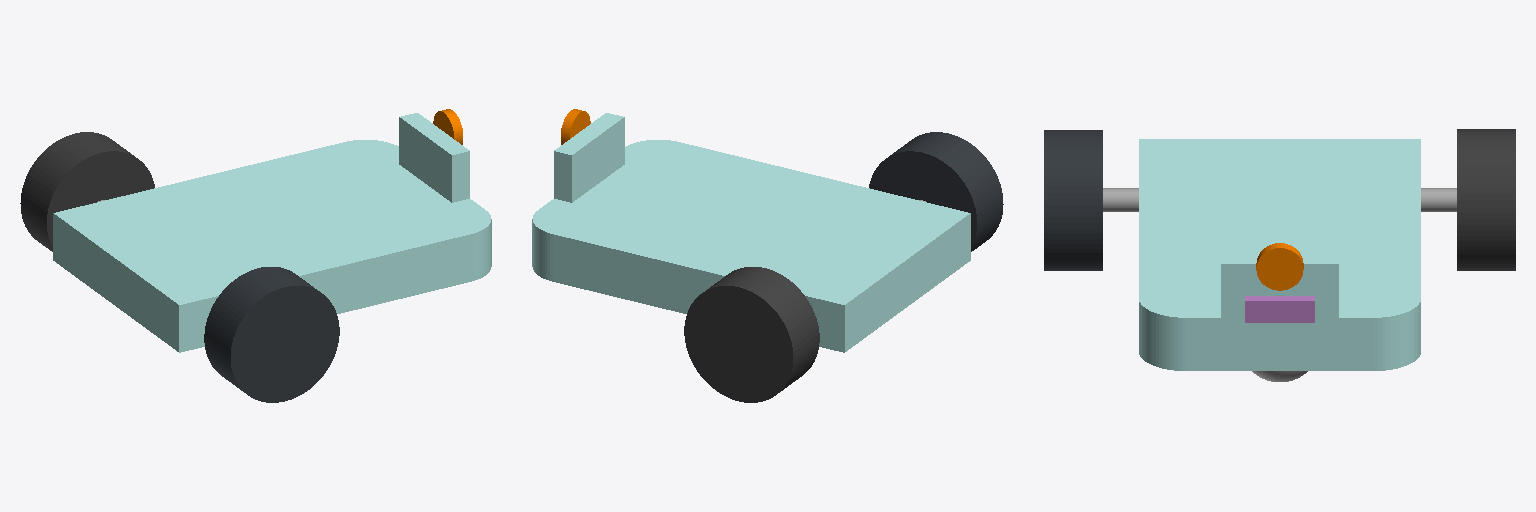
The robot description file, URDF, robot "warden":
<?xml version="1.0" ?>
<!-- Generated using onshape-to-robot -->
<!-- Onshape document_id: a95faf3a4f281cc41b4edebe / workspace_id: 843dbb8636a14d7052eaf3cc -->
<robot name="warden">
  <!-- Link base_link -->
  <link name="base_link">
    <inertial>
      <origin xyz="0.111758 0.0613685 0.00349625" rpy="0 0 0"/>
      <mass value="0.576715"/>
      <inertia ixx="0.000708516" ixy="0" ixz="-2.75267e-05" iyy="0.00163298" iyz="0" izz="0.00226536"/>
    </inertial>
    <!-- Part base_link -->
    <visual>
      <origin xyz="0.0204942 0.00174666 -0.0270738" rpy="0 -0 0"/>
      <geometry>
        <mesh filename="package://warden_description/models/meshes/base_link.stl"/>
      </geometry>
      <material name="base_link_material">
        <color rgba="0.737255 0.937255 0.917647 1"/>
      </material>
    </visual>
    <collision>
      <origin xyz="0.0204942 0.00174666 -0.0270738" rpy="0 -0 0"/>
      <geometry>
        <mesh filename="package://warden_description/models/meshes/base_link.stl"/>
      </geometry>
    </collision>
  </link>
  <!-- Link right_wheel_link -->
  <link name="right_wheel_link">
    <inertial>
      <origin xyz="0 0 -0.0075" rpy="0 0 0"/>
      <mass value="0.00123936"/>
      <inertia ixx="3.0984e-08" ixy="0" ixz="0" iyy="3.0984e-08" iyz="0" izz="1.5492e-08"/>
    </inertial>
    <!-- Part right_wheel_link -->
    <visual>
      <origin xyz="-0.0349958 0.03 0.000378129" rpy="1.5708 -0 0"/>
      <geometry>
        <mesh filename="package://warden_description/models/meshes/right_wheel_link.stl"/>
      </geometry>
      <material name="right_wheel_link_material">
        <color rgba="0.701961 0.701961 0.701961 1"/>
      </material>
    </visual>
    <collision>
      <origin xyz="-0.0349958 0.03 0.000378129" rpy="1.5708 -0 0"/>
      <geometry>
        <mesh filename="package://warden_description/models/meshes/right_wheel_link.stl"/>
      </geometry>
    </collision>
  </link>
  <!-- Joint from base_link to right_wheel_link -->
  <joint name="right_joint" type="fixed">
    <origin xyz="0.05549 0.00136853 0.00292621" rpy="-1.5708 -0 0"/>
    <parent link="base_link"/>
    <child link="right_wheel_link"/>
    <axis xyz="0 0 1"/>
    <limit effort="10" velocity="10"/>
  </joint>
  <!-- Link left_wheel_link -->
  <link name="left_wheel_link">
    <inertial>
      <origin xyz="-0 0 -0.0075" rpy="0 0 0"/>
      <mass value="0.00123936"/>
      <inertia ixx="3.0984e-08" ixy="0" ixz="0" iyy="3.0984e-08" iyz="0" izz="1.5492e-08"/>
    </inertial>
    <!-- Part left_wheel_link -->
    <visual>
      <origin xyz="-0.0349958 -0.03 0.119622" rpy="-1.5708 -0 0"/>
      <geometry>
        <mesh filename="package://warden_description/models/meshes/left_wheel_link.stl"/>
      </geometry>
      <material name="left_wheel_link_material">
        <color rgba="0.701961 0.701961 0.701961 1"/>
      </material>
    </visual>
    <collision>
      <origin xyz="-0.0349958 -0.03 0.119622" rpy="-1.5708 -0 0"/>
      <geometry>
        <mesh filename="package://warden_description/models/meshes/left_wheel_link.stl"/>
      </geometry>
    </collision>
  </link>
  <!-- Joint from base_link to left_wheel_link -->
  <joint name="left_joint" type="fixed">
    <origin xyz="0.05549 0.121369 0.00292621" rpy="1.5708 -0 0"/>
    <parent link="base_link"/>
    <child link="left_wheel_link"/>
    <axis xyz="0 0 1"/>
    <limit effort="10" velocity="10"/>
  </joint>
  <!-- Link caster -->
  <link name="caster">
    <inertial>
      <origin xyz="0 0 -0.0065625" rpy="0 0 0"/>
      <mass value="0.0881135"/>
      <inertia ixx="6.99917e-06" ixy="0" ixz="-0" iyy="6.99917e-06" iyz="0" izz="1.07939e-05"/>
    </inertial>
    <!-- Part caster -->
    <visual>
      <origin xyz="-0.149996 -0.0571219 -0.0175" rpy="0 -0 0"/>
      <geometry>
        <mesh filename="package://warden_description/models/meshes/caster.stl"/>
      </geometry>
      <material name="caster_material">
        <color rgba="0.701961 0.701961 0.701961 1"/>
      </material>
    </visual>
    <collision>
      <origin xyz="-0.149996 -0.0571219 -0.0175" rpy="0 -0 0"/>
      <geometry>
        <mesh filename="package://warden_description/models/meshes/caster.stl"/>
      </geometry>
    </collision>
  </link>
  <!-- Joint from base_link to caster -->
  <joint name="caster_joint" type="fixed">
    <origin xyz="0.17049 0.0613685 -0.00957379" rpy="0 -0 0"/>
    <parent link="base_link"/>
    <child link="caster"/>
    <axis xyz="0 0 1"/>
    <limit effort="10" velocity="10"/>
  </joint>
  <!-- Link right -->
  <link name="right">
    <inertial>
      <origin xyz="0 -0 -0.0275" rpy="0 0 0"/>
      <mass value="0.0743615"/>
      <inertia ixx="2.06043e-05" ixy="0" ixz="0" iyy="2.06043e-05" iyz="0" izz="3.34627e-05"/>
    </inertial>
    <!-- Part right -->
    <visual>
      <origin xyz="0.0455868 0.052388 -0.015" rpy="1.5708 -0 -1.32919"/>
      <geometry>
        <mesh filename="package://warden_description/models/meshes/right.stl"/>
      </geometry>
      <material name="right_material">
        <color rgba="0.262745 0.282353 0.301961 1"/>
      </material>
    </visual>
    <collision>
      <origin xyz="0.0455868 0.052388 -0.015" rpy="1.5708 -0 -1.32919"/>
      <geometry>
        <mesh filename="package://warden_description/models/meshes/right.stl"/>
      </geometry>
    </collision>
  </link>
  <!-- Joint from base_link to right -->
  <joint name="right_wheel_joint" type="continuous">
    <origin xyz="0.05549 0.00136853 0.00292621" rpy="-1.5708 -0 0"/>
    <parent link="base_link"/>
    <child link="right"/>
    <axis xyz="0 0 1"/>
    <limit effort="10" velocity="10"/>
  </joint>
  <!-- Link left -->
  <link name="left">
    <inertial>
      <origin xyz="-0 -0 0.0275" rpy="0 0 0"/>
      <mass value="0.0743615"/>
      <inertia ixx="2.06043e-05" ixy="-0" ixz="-0" iyy="2.06043e-05" iyz="0" izz="3.34627e-05"/>
    </inertial>
    <!-- Part left -->
    <visual>
      <origin xyz="0.0645654 0.0175969 0.04" rpy="1.5708 -0 -1.91675"/>
      <geometry>
        <mesh filename="package://warden_description/models/meshes/left.stl"/>
      </geometry>
      <material name="left_material">
        <color rgba="0.301961 0.301961 0.301961 1"/>
      </material>
    </visual>
    <collision>
      <origin xyz="0.0645654 0.0175969 0.04" rpy="1.5708 -0 -1.91675"/>
      <geometry>
        <mesh filename="package://warden_description/models/meshes/left.stl"/>
      </geometry>
    </collision>
  </link>
  <!-- Joint from base_link to left -->
  <joint name="left_wheel_joint" type="continuous">
    <origin xyz="0.05549 0.121369 0.00292621" rpy="1.5708 -0 -3.14159"/>
    <parent link="base_link"/>
    <child link="left"/>
    <axis xyz="0 0 1"/>
    <limit effort="10" velocity="10"/>
  </joint>
  <!-- Link tof_sensor -->
  <link name="tof_sensor">
    <inertial>
      <origin xyz="0.025 -0.005 -0.0025" rpy="0 0 0"/>
      <mass value="0.001578"/>
      <inertia ixx="1.6438e-08" ixy="0" ixz="0" iyy="1.21638e-07" iyz="-0" izz="1.315e-07"/>
    </inertial>
    <!-- Part tof_sensor -->
    <visual>
      <origin xyz="-0.0346219 0.0425 0.179996" rpy="1.5708 1.5708 0"/>
      <geometry>
        <mesh filename="package://warden_description/models/meshes/tof_sensor.stl"/>
      </geometry>
      <material name="tof_sensor_material">
        <color rgba="0.764706 0.545098 0.803922 1"/>
      </material>
    </visual>
    <collision>
      <origin xyz="-0.0346219 0.0425 0.179996" rpy="1.5708 1.5708 0"/>
      <geometry>
        <mesh filename="package://warden_description/models/meshes/tof_sensor.stl"/>
      </geometry>
    </collision>
  </link>
  <!-- Joint from base_link to tof_sensor -->
  <joint name="TOF_joint" type="fixed">
    <origin xyz="0.20049 0.0363685 0.0154262" rpy="-1.5708 -0 1.5708"/>
    <parent link="base_link"/>
    <child link="tof_sensor"/>
    <axis xyz="0 0 1"/>
    <limit effort="10" velocity="10"/>
  </joint>
  <!-- Link camera -->
  <link name="camera">
    <inertial>
      <origin xyz="0.0025 0 0" rpy="0 0 0"/>
      <mass value="0.00163363"/>
      <inertia ixx="8.1681e-08" ixy="0" ixz="-0" iyy="4.4244e-08" iyz="0" izz="4.4244e-08"/>
    </inertial>
    <!-- Part camera -->
    <visual>
      <origin xyz="0.184996 -0.0675 -0.0596219" rpy="1.5708 -0 3.14159"/>
      <geometry>
        <mesh filename="package://warden_description/models/meshes/camera.stl"/>
      </geometry>
      <material name="camera_material">
        <color rgba="0.972549 0.529412 0.00392157 1"/>
      </material>
    </visual>
    <collision>
      <origin xyz="0.184996 -0.0675 -0.0596219" rpy="1.5708 -0 3.14159"/>
      <geometry>
        <mesh filename="package://warden_description/models/meshes/camera.stl"/>
      </geometry>
    </collision>
  </link>
  <!-- Joint from base_link to camera -->
  <joint name="camera_jt" type="fixed">
    <origin xyz="0.20049 0.0613685 0.0404262" rpy="3.14159 0 0"/>
    <parent link="base_link"/>
    <child link="camera"/>
    <axis xyz="0 0 1"/>
    <limit effort="10" velocity="10"/>
  </joint>
</robot>

--- What the picture shows (computed from the rendered views, not written in the file) ---
Views: 3 orthographic renders of the robot side by side, from view 1: azimuth 30°, elevation 25°; view 2: azimuth 150°, elevation 25°; view 3: azimuth 270°, elevation 25°.
Robot: warden — 8 links, 7 joints (2 continuous, 5 fixed); root link base_link; default pose: every joint at zero.
Links seen in each view (by area): view 1: base_link, right, left, camera; view 2: base_link, left, right, camera; view 3: base_link, left, right, tof_sensor, camera, right_wheel_link, left_wheel_link.
Link boxes in pixels (bbox=[...]): base_link: bbox=[53, 113, 491, 352]; right: bbox=[204, 267, 339, 402]; left: bbox=[20, 132, 154, 251]; camera: bbox=[433, 109, 462, 144]; base_link: bbox=[532, 113, 970, 352]; left: bbox=[684, 267, 819, 402]; right: bbox=[869, 132, 1003, 251]; camera: bbox=[561, 109, 590, 144]; base_link: bbox=[1139, 139, 1420, 370]; left: bbox=[1457, 129, 1515, 270]; right: bbox=[1044, 130, 1102, 270]; tof_sensor: bbox=[1245, 296, 1314, 322]; camera: bbox=[1256, 243, 1303, 290]; right_wheel_link: bbox=[1103, 188, 1138, 211]; left_wheel_link: bbox=[1421, 188, 1456, 211].
Size in the robot's own frame: 0.185 by 0.2 by 0.0775 metres.
Meshes: 8 distinct files referenced, 8 mesh visuals loaded (8 binary STL).
